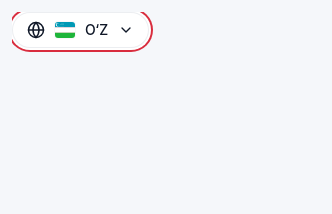
Test case: shared locale pill and Radix dropdown › keeps flag, abbreviation, announcement and persistence synchronized through all locales without requests
Press Enter in the button "O‘Z", box [12, 12, 149, 48]
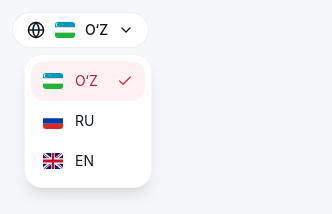
Click the menu item "EN".
click(53, 161)  # box [43, 152, 94, 169]
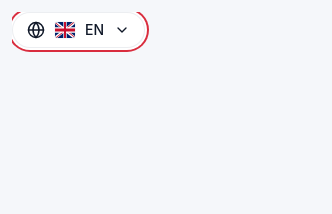
Result: the button "EN" is shown
Press Enter in the button "EN", box [12, 12, 145, 48]
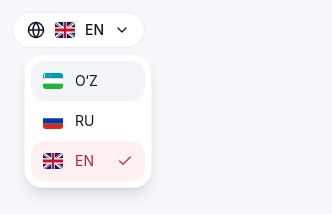
Click the menu item "RU".
click(53, 121)  # box [43, 112, 94, 129]
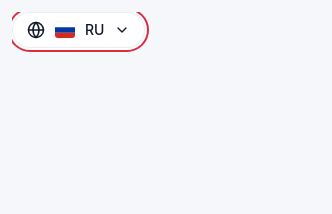
Result: the button "RU" is shown
Press Enter in the button "RU", box [12, 12, 145, 48]
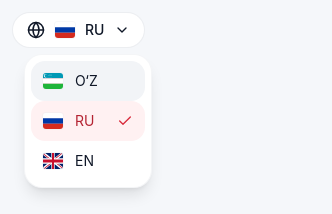
Click the menu item "O‘Z".
click(88, 81)  # box [31, 61, 145, 101]
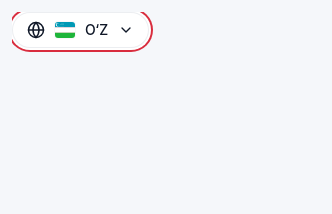
Result: the button "O‘Z" is shown at [12, 12, 149, 48]
